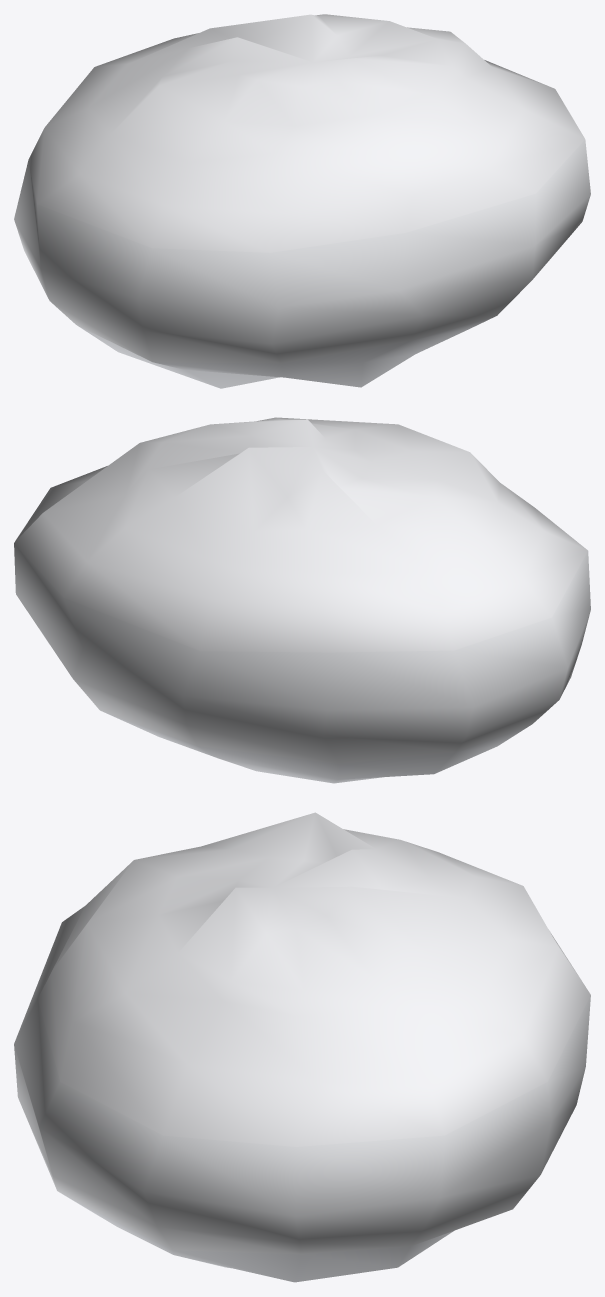
Rendered from bush-63_col.fbx.
3 renders of one model, top to bottom at view 1: azimuth 30°, elevation 25°; view 2: azimuth 150°, elevation 25°; view 3: azimuth 270°, elevation 25°, orthographic. The views are drawn at different scales.
Parts seen in each view (by area): view 1: bush-63.col; view 2: bush-63.col; view 3: bush-63.col.
Part boxes in pixels (<box>): bush-63.col: <box>14,14,590,388</box>; bush-63.col: <box>14,417,590,783</box>; bush-63.col: <box>14,812,590,1282</box>.
Bounding box in the file's own units: 0.2941 × 0.1626 × 0.2357.
Materials: 1 (1 with a texture image).
